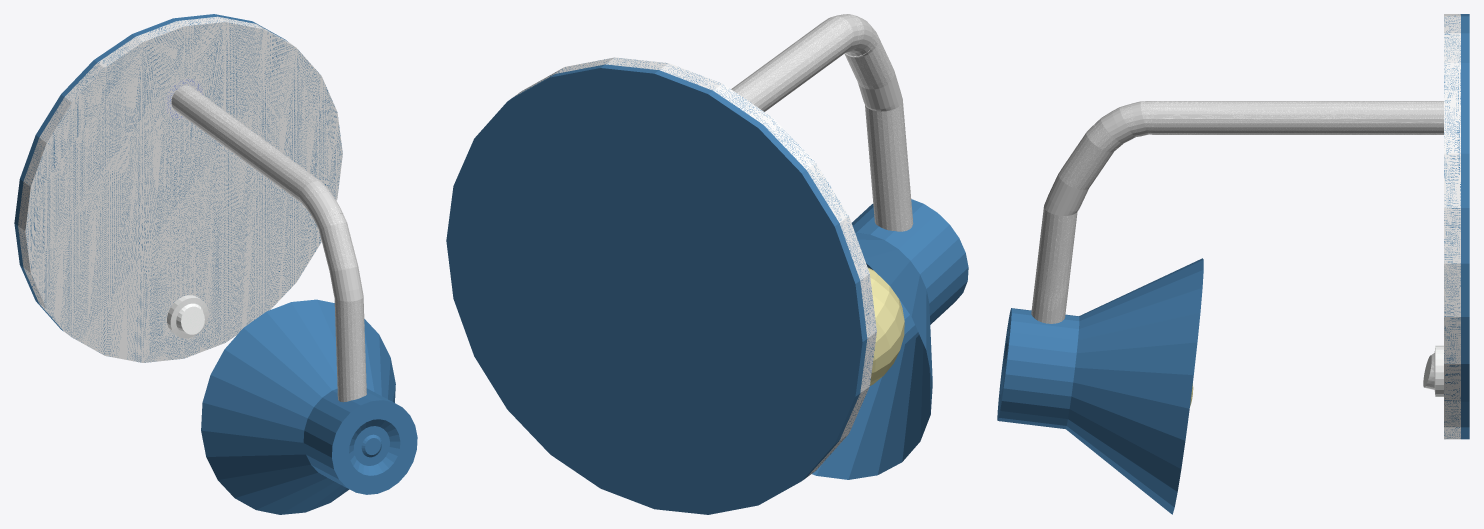
The picture shows the model from 3 angles, left to right: view 1: azimuth 30°, elevation 25°; view 2: azimuth 150°, elevation 25°; view 3: azimuth 270°, elevation 25°; orthographic projection. The views are drawn at different scales.
Visible parts, largest first — view 1: desk lamp blue; view 2: desk lamp blue; view 3: desk lamp blue.
Boxes of the visible parts, left/top/right/bottom form: desk lamp blue: left=14, top=14, right=417, bottom=514; desk lamp blue: left=446, top=14, right=968, bottom=514; desk lamp blue: left=997, top=14, right=1469, bottom=514.
Size of the model in its own units: 12.5 by 15.11 by 13.82.
